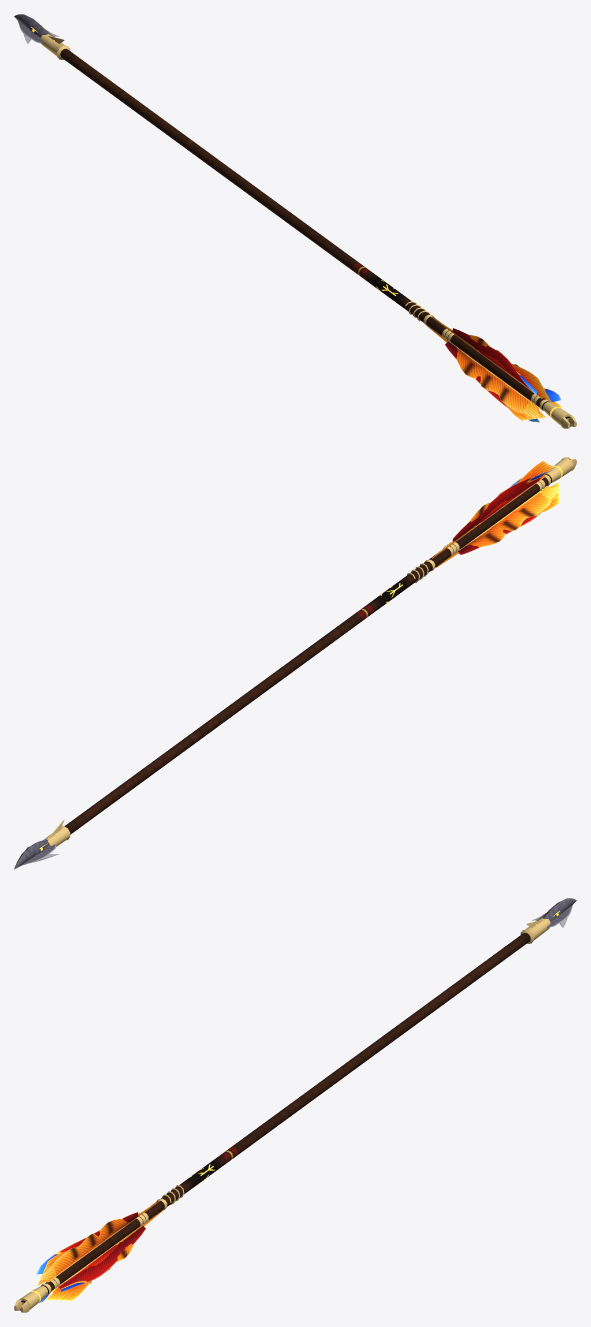
The model's file is arrow.glb.
3 views of the same model, one above another, from view 1: azimuth 30°, elevation 25°; view 2: azimuth 150°, elevation 25°; view 3: azimuth 330°, elevation 25° (orthographic).
Visible parts, largest first — view 1: Shaft, Fletch_1, Fletch_3, Fletch_0, Head_1; view 2: Shaft, Fletch_1, Fletch_3, Head_1, Fletch_0; view 3: Shaft, Fletch_3, Fletch_1, Fletch_0, Head_1.
Part boxes in pixels (left/top/right/bottom): Shaft: left=60, top=49, right=576, bottom=428; Fletch_1: left=448, top=333, right=536, bottom=413; Fletch_3: left=445, top=328, right=561, bottom=422; Fletch_0: left=442, top=328, right=561, bottom=420; Head_1: left=14, top=14, right=70, bottom=59; Shaft: left=64, top=457, right=576, bottom=834; Fletch_1: left=449, top=477, right=551, bottom=551; Fletch_3: left=446, top=470, right=552, bottom=554; Head_1: left=14, top=819, right=70, bottom=869; Fletch_0: left=443, top=460, right=559, bottom=555; Shaft: left=14, top=933, right=530, bottom=1312; Fletch_3: left=35, top=1212, right=145, bottom=1303; Fletch_1: left=52, top=1216, right=142, bottom=1286; Fletch_0: left=37, top=1212, right=148, bottom=1300; Head_1: left=520, top=898, right=576, bottom=943.
Bounding box in the file's own units: 0.0325 × 0.0333 × 0.7809.
5 materials, 3 textured.
